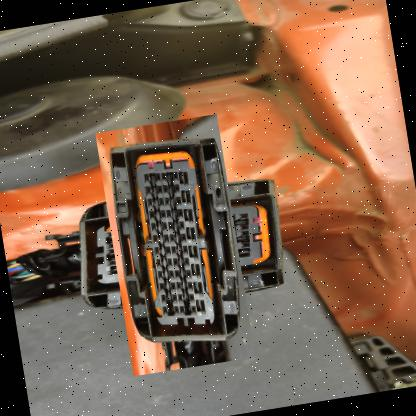Connector: (69, 138, 282, 351)
